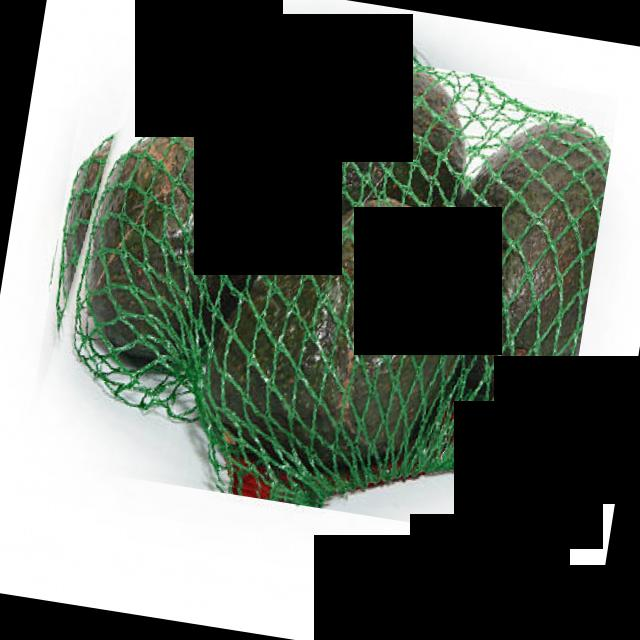avocado: (23, 13, 620, 544)
